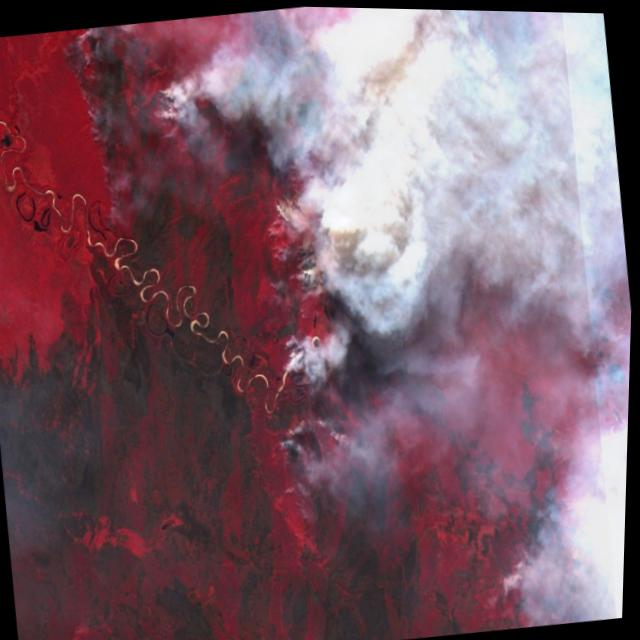fire: (60, 24, 142, 222), (256, 180, 324, 322), (276, 411, 330, 505), (151, 65, 193, 153), (274, 334, 322, 395)
